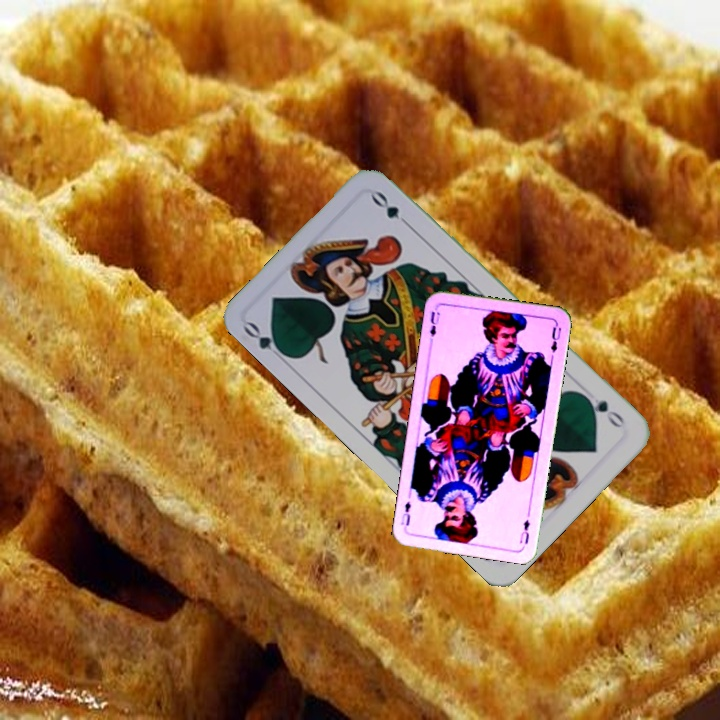EU: (426, 303, 443, 344), (515, 516, 532, 546)
GO: (239, 318, 292, 365), (578, 390, 627, 432)
